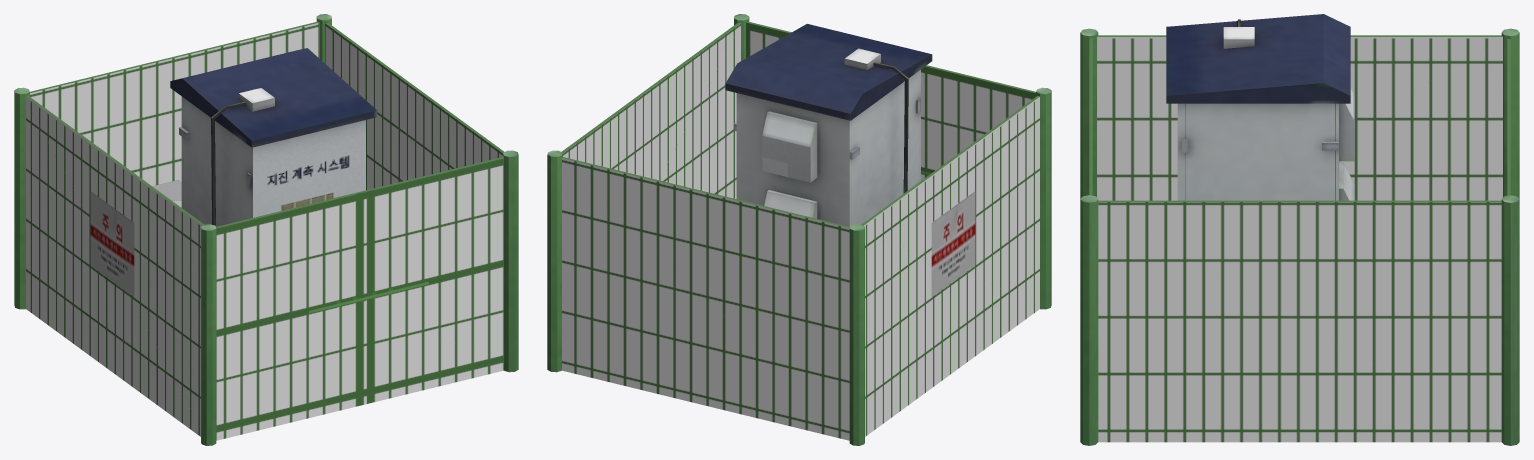
File: freeSeismometer_ET.gltf
The picture shows the model from 3 angles, left to right: view 1: azimuth 30°, elevation 25°; view 2: azimuth 150°, elevation 25°; view 3: azimuth 270°, elevation 25°; orthographic projection. The views are drawn at different scales.
Visible parts, largest first — view 1: frame_A, freeSeismometer_ET; view 2: frame_A, freeSeismometer_ET; view 3: frame_A, freeSeismometer_ET.
Part boxes in pixels (bbox=[...]): frame_A: bbox=[26, 21, 504, 440]; freeSeismometer_ET: bbox=[14, 14, 518, 445]; frame_A: bbox=[561, 21, 1039, 440]; freeSeismometer_ET: bbox=[547, 14, 1051, 445]; frame_A: bbox=[1089, 35, 1510, 442]; freeSeismometer_ET: bbox=[1080, 14, 1519, 445].
Bounding box in the file's own units: 19.35 × 15.82 × 20.61.
Materials: 2 (2 with a texture image).
